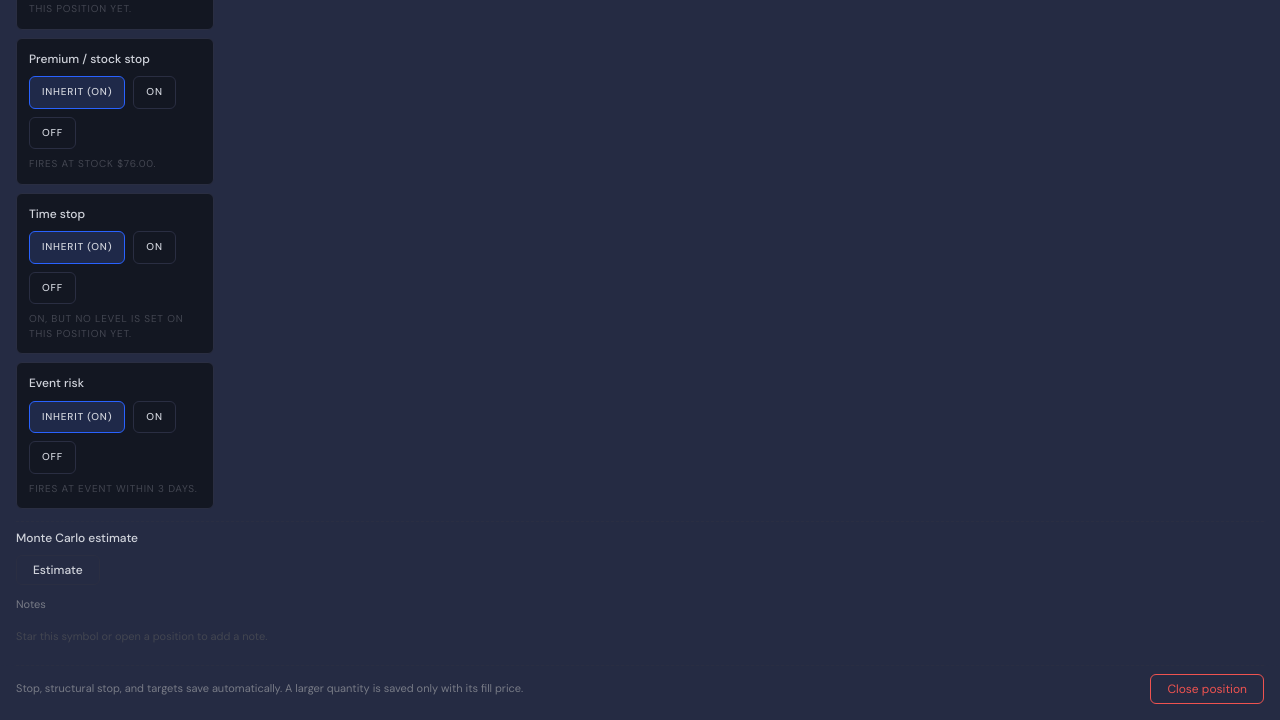
EditDrawer Monte Carlo estimate › clears a stale Monte Carlo result when the user edits the stop after estimating
This screenshot has width=1280, height=720.
(page scrolled)
Click the button "Estimate".
click(58, 570)  # box [16, 555, 100, 585]
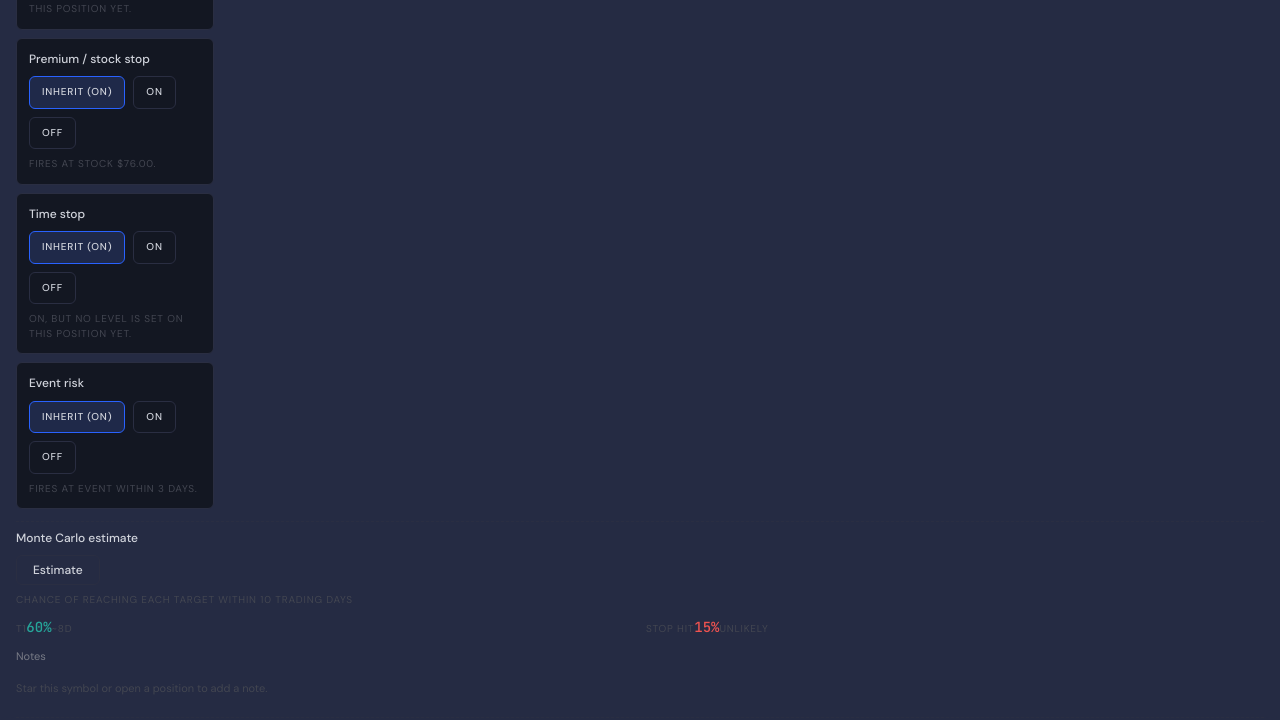
Now the text "60%" is shown, box [26, 618, 52, 636]
